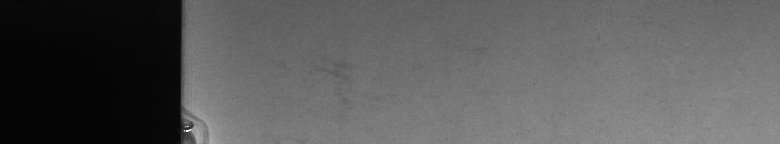hb: (192, 109, 213, 136)
